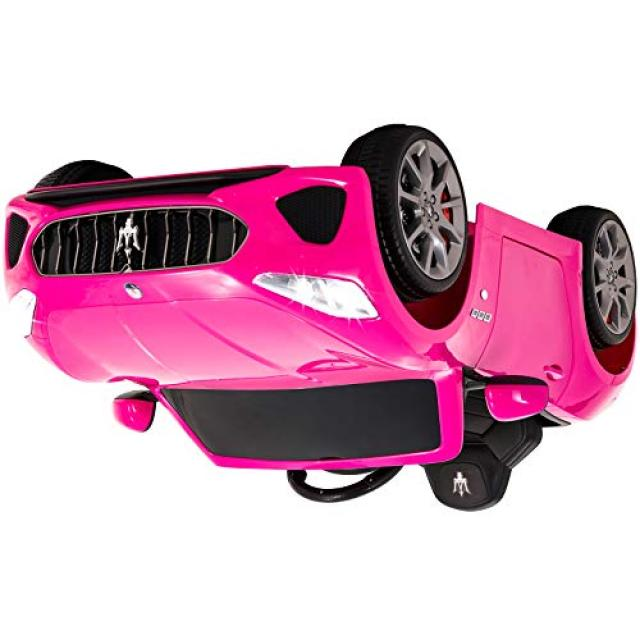Car: (1, 124, 638, 513)
